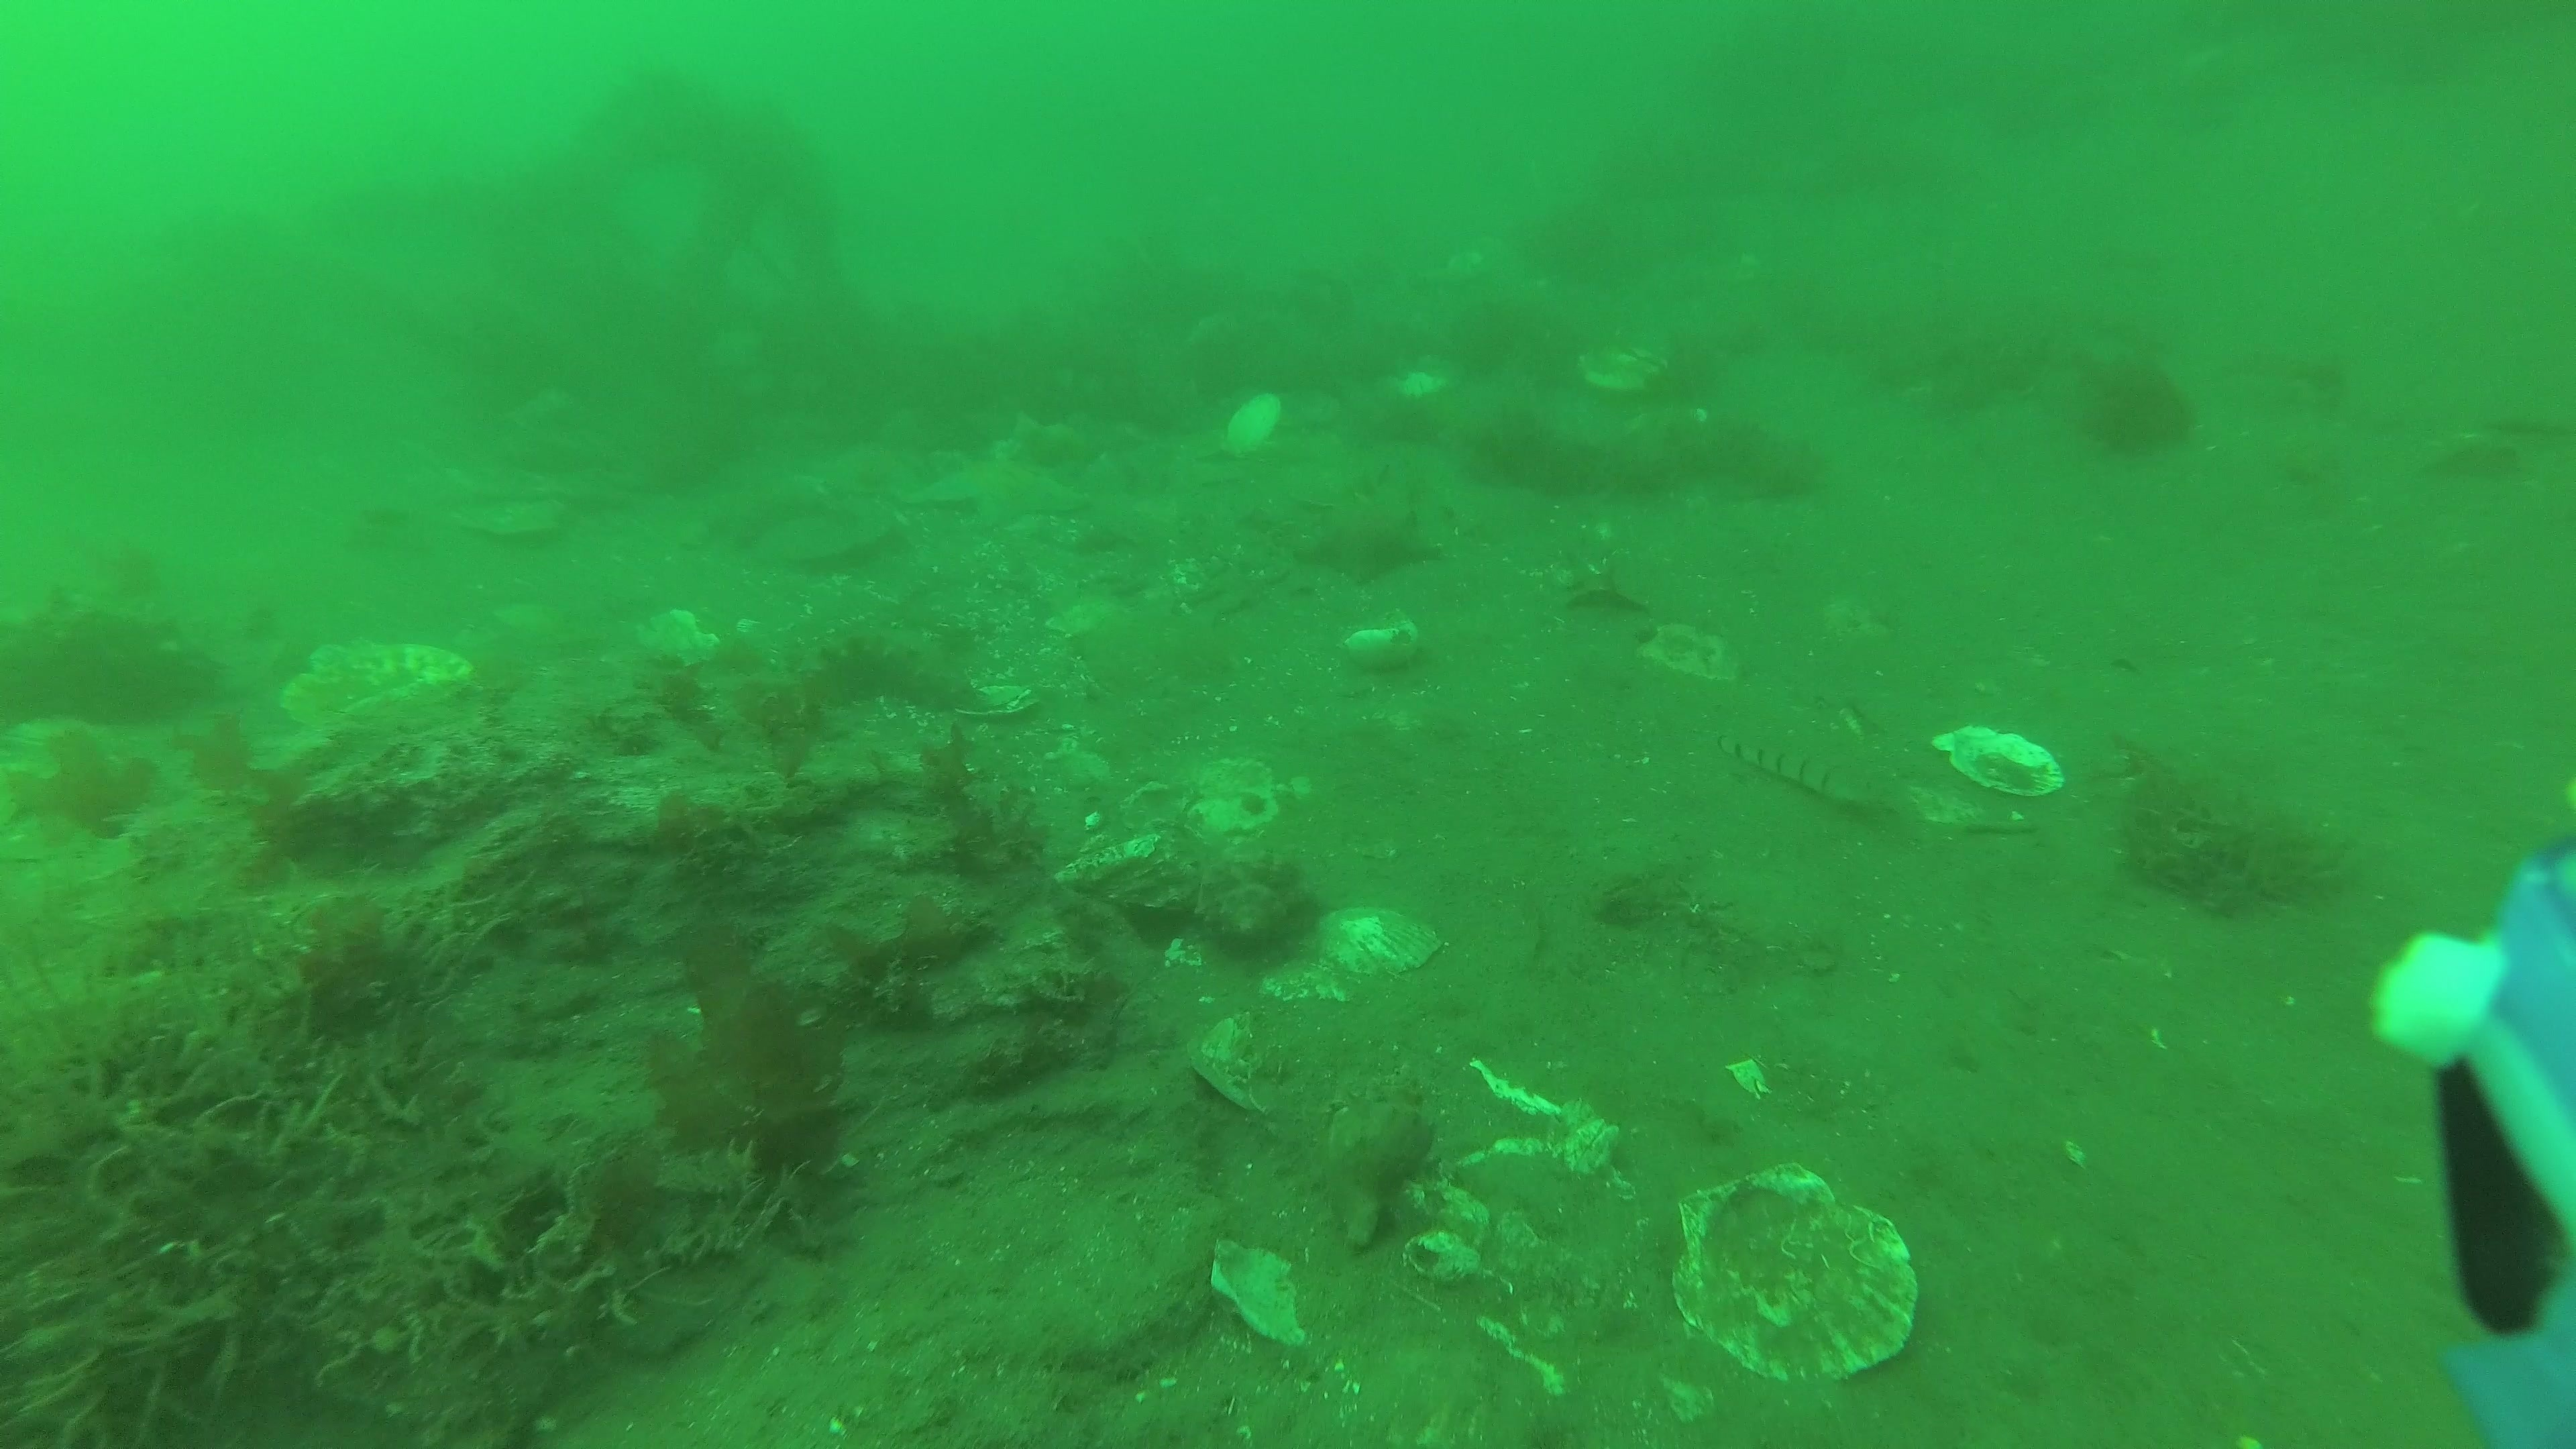scallop: (1661, 1155, 1928, 1391), (269, 635, 481, 743), (1307, 897, 1447, 984)
